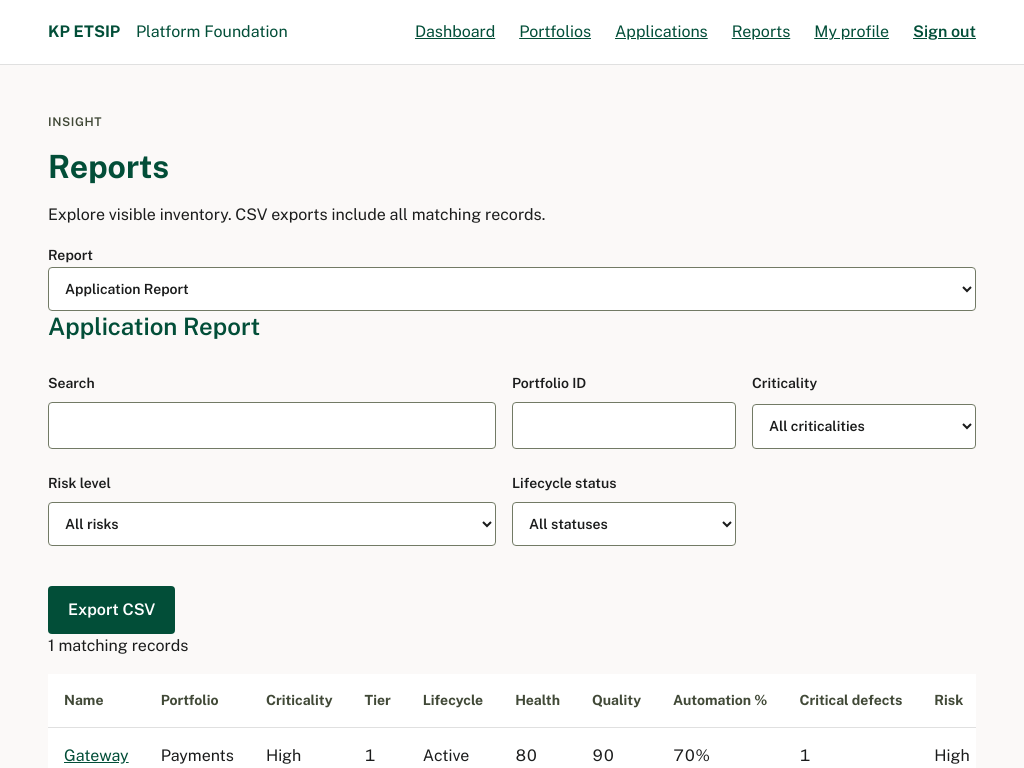
Test: reports › reports export denial from the server after a permission change
Click the button "Export CSV" at (112, 610), box [48,586,175,634]
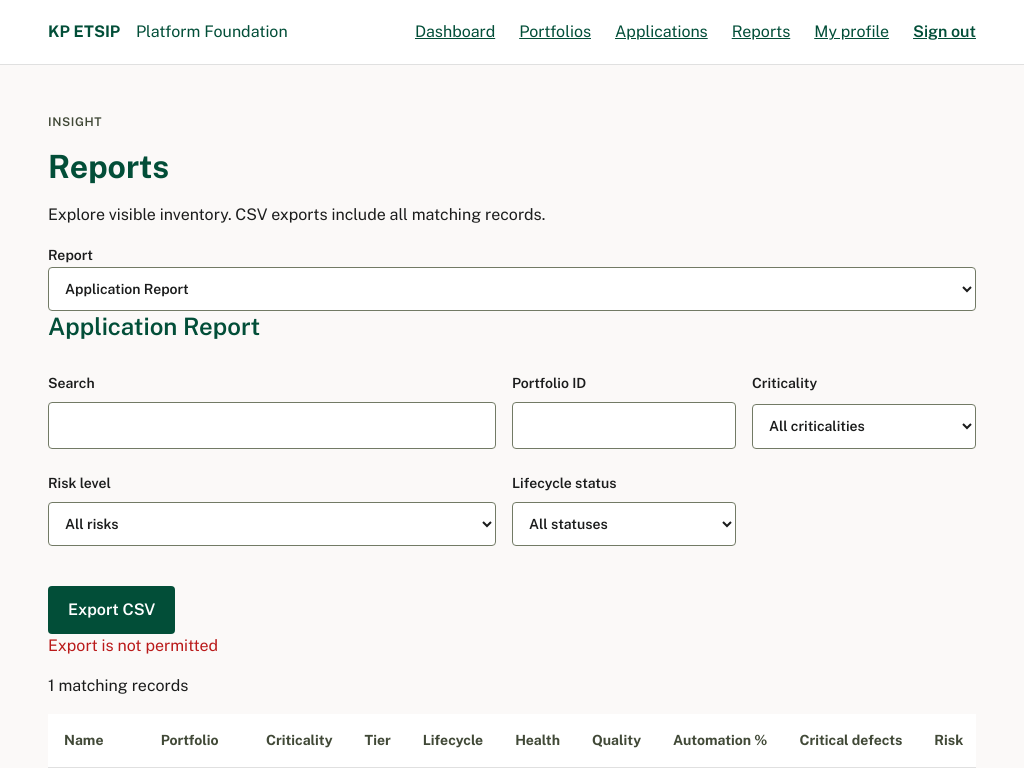
Check: the message reads "Export is not permitted", box [48,636,218,655]
